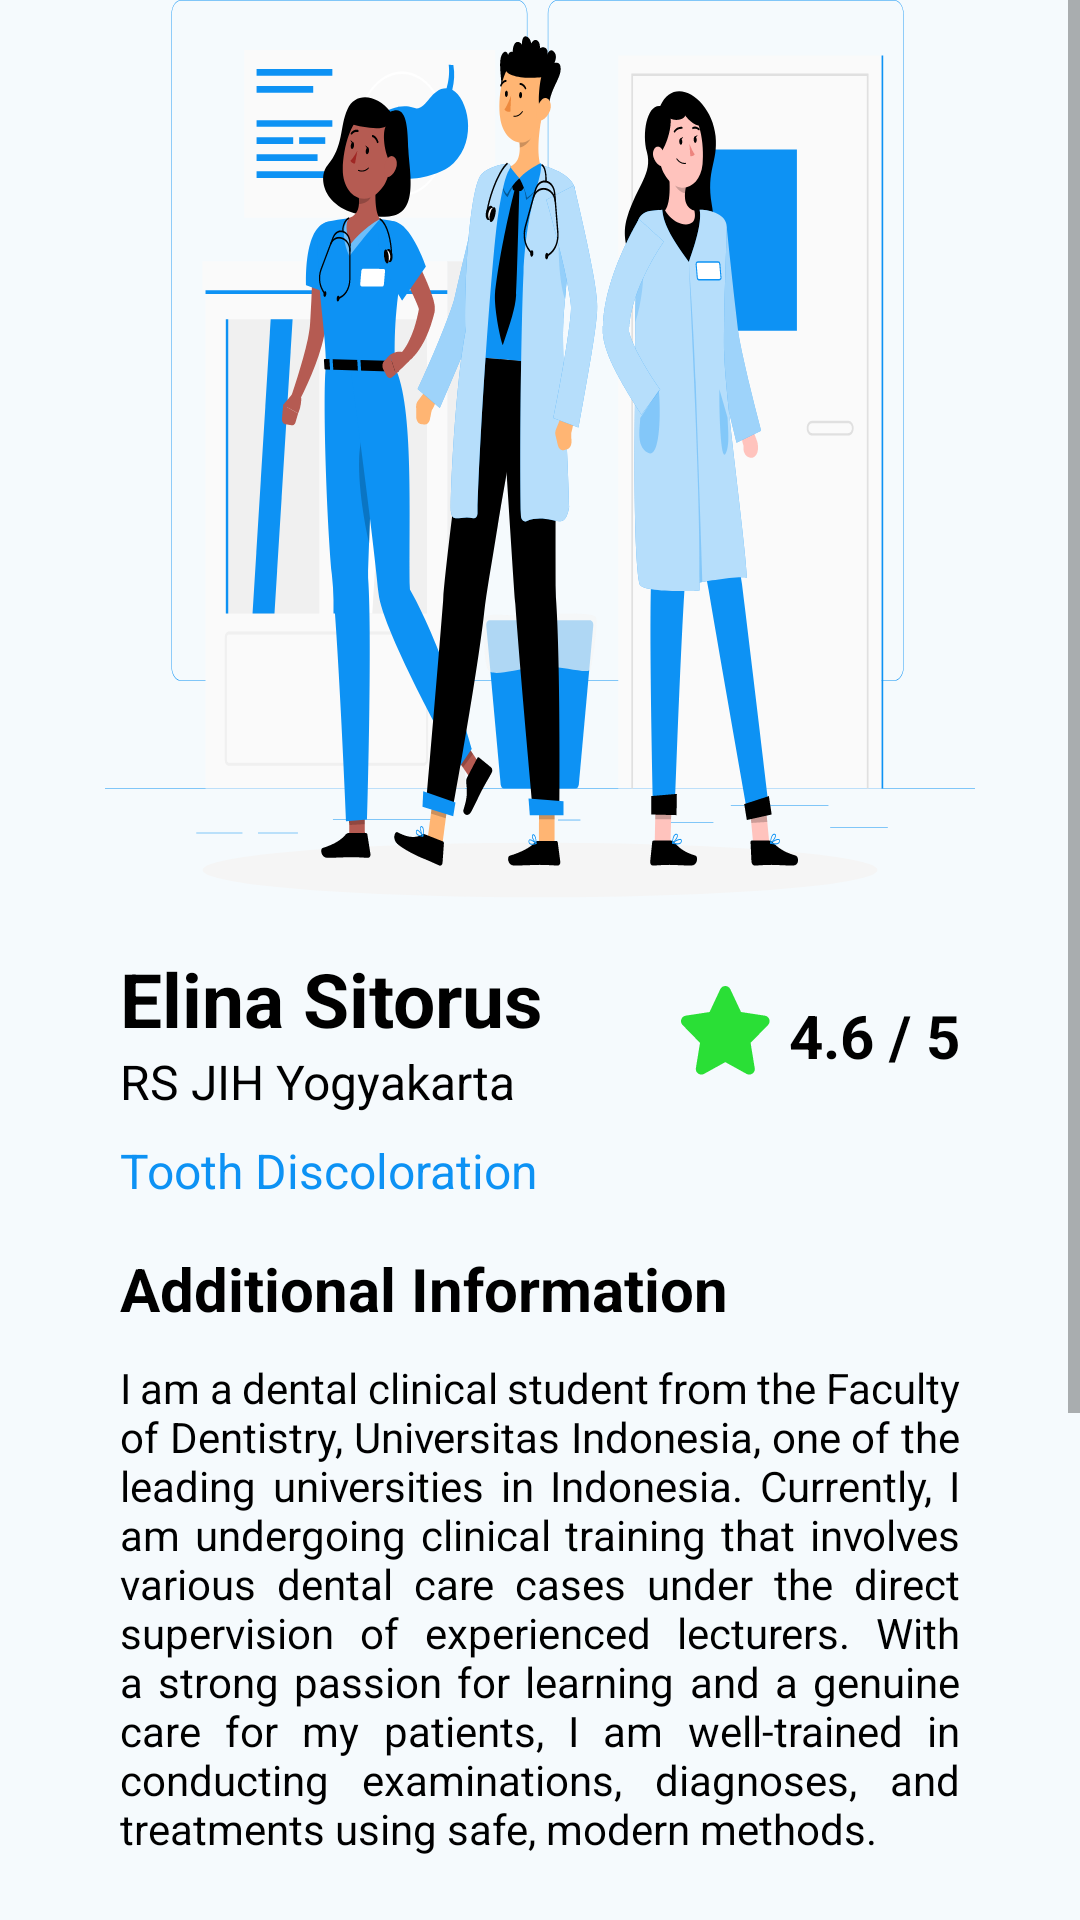

Named icons in this screenshot (1080 × 1920) and their bounding boxes, (x1, y1, x2, y2):
star: (681, 986, 770, 1075)
